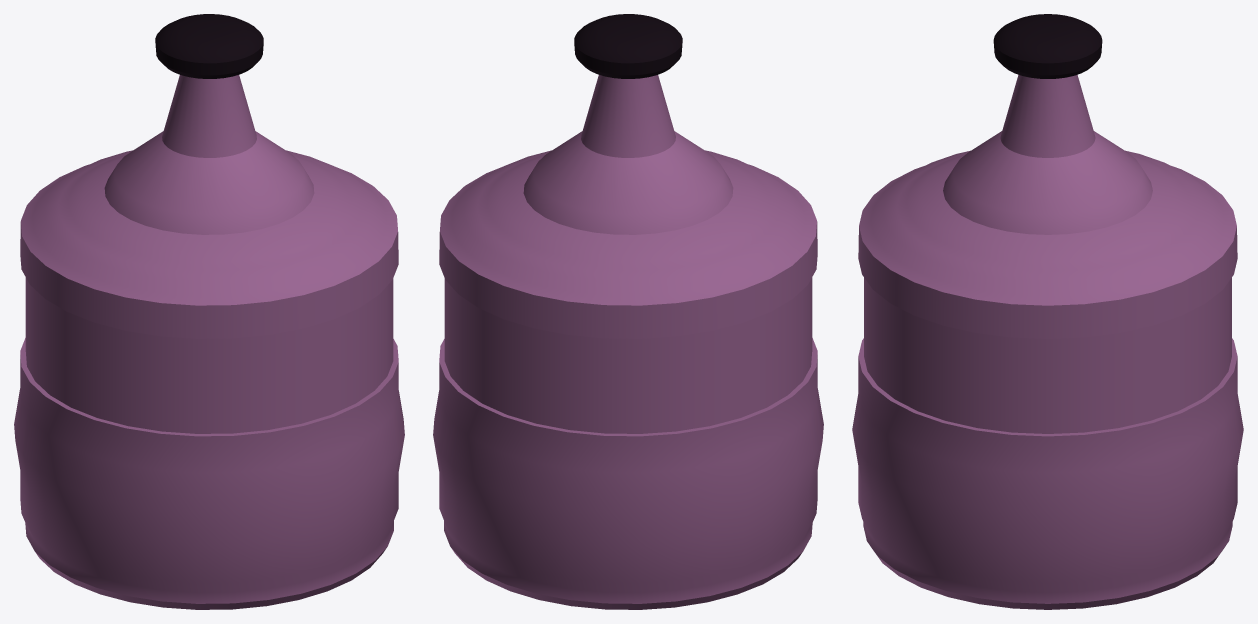
Rendered from bottle5.glb.
3 views of the same model, side by side, from view 1: azimuth 30°, elevation 25°; view 2: azimuth 150°, elevation 25°; view 3: azimuth 270°, elevation 25° (orthographic).
Parts seen in each view (by area): view 1: Bottle5; view 2: Bottle5; view 3: Bottle5.
Part boxes in pixels (x1,y1,x2,y2): Bottle5: (14, 14, 404, 609); Bottle5: (433, 14, 823, 609); Bottle5: (852, 14, 1243, 609).
Bounding box in the file's own units: 0.5468 × 0.7805 × 0.5468.
